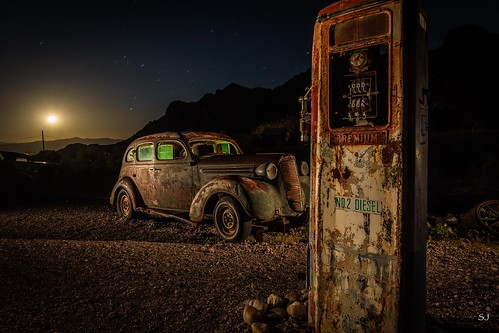car: (107, 121, 319, 244)
sky: (1, 1, 321, 136)
